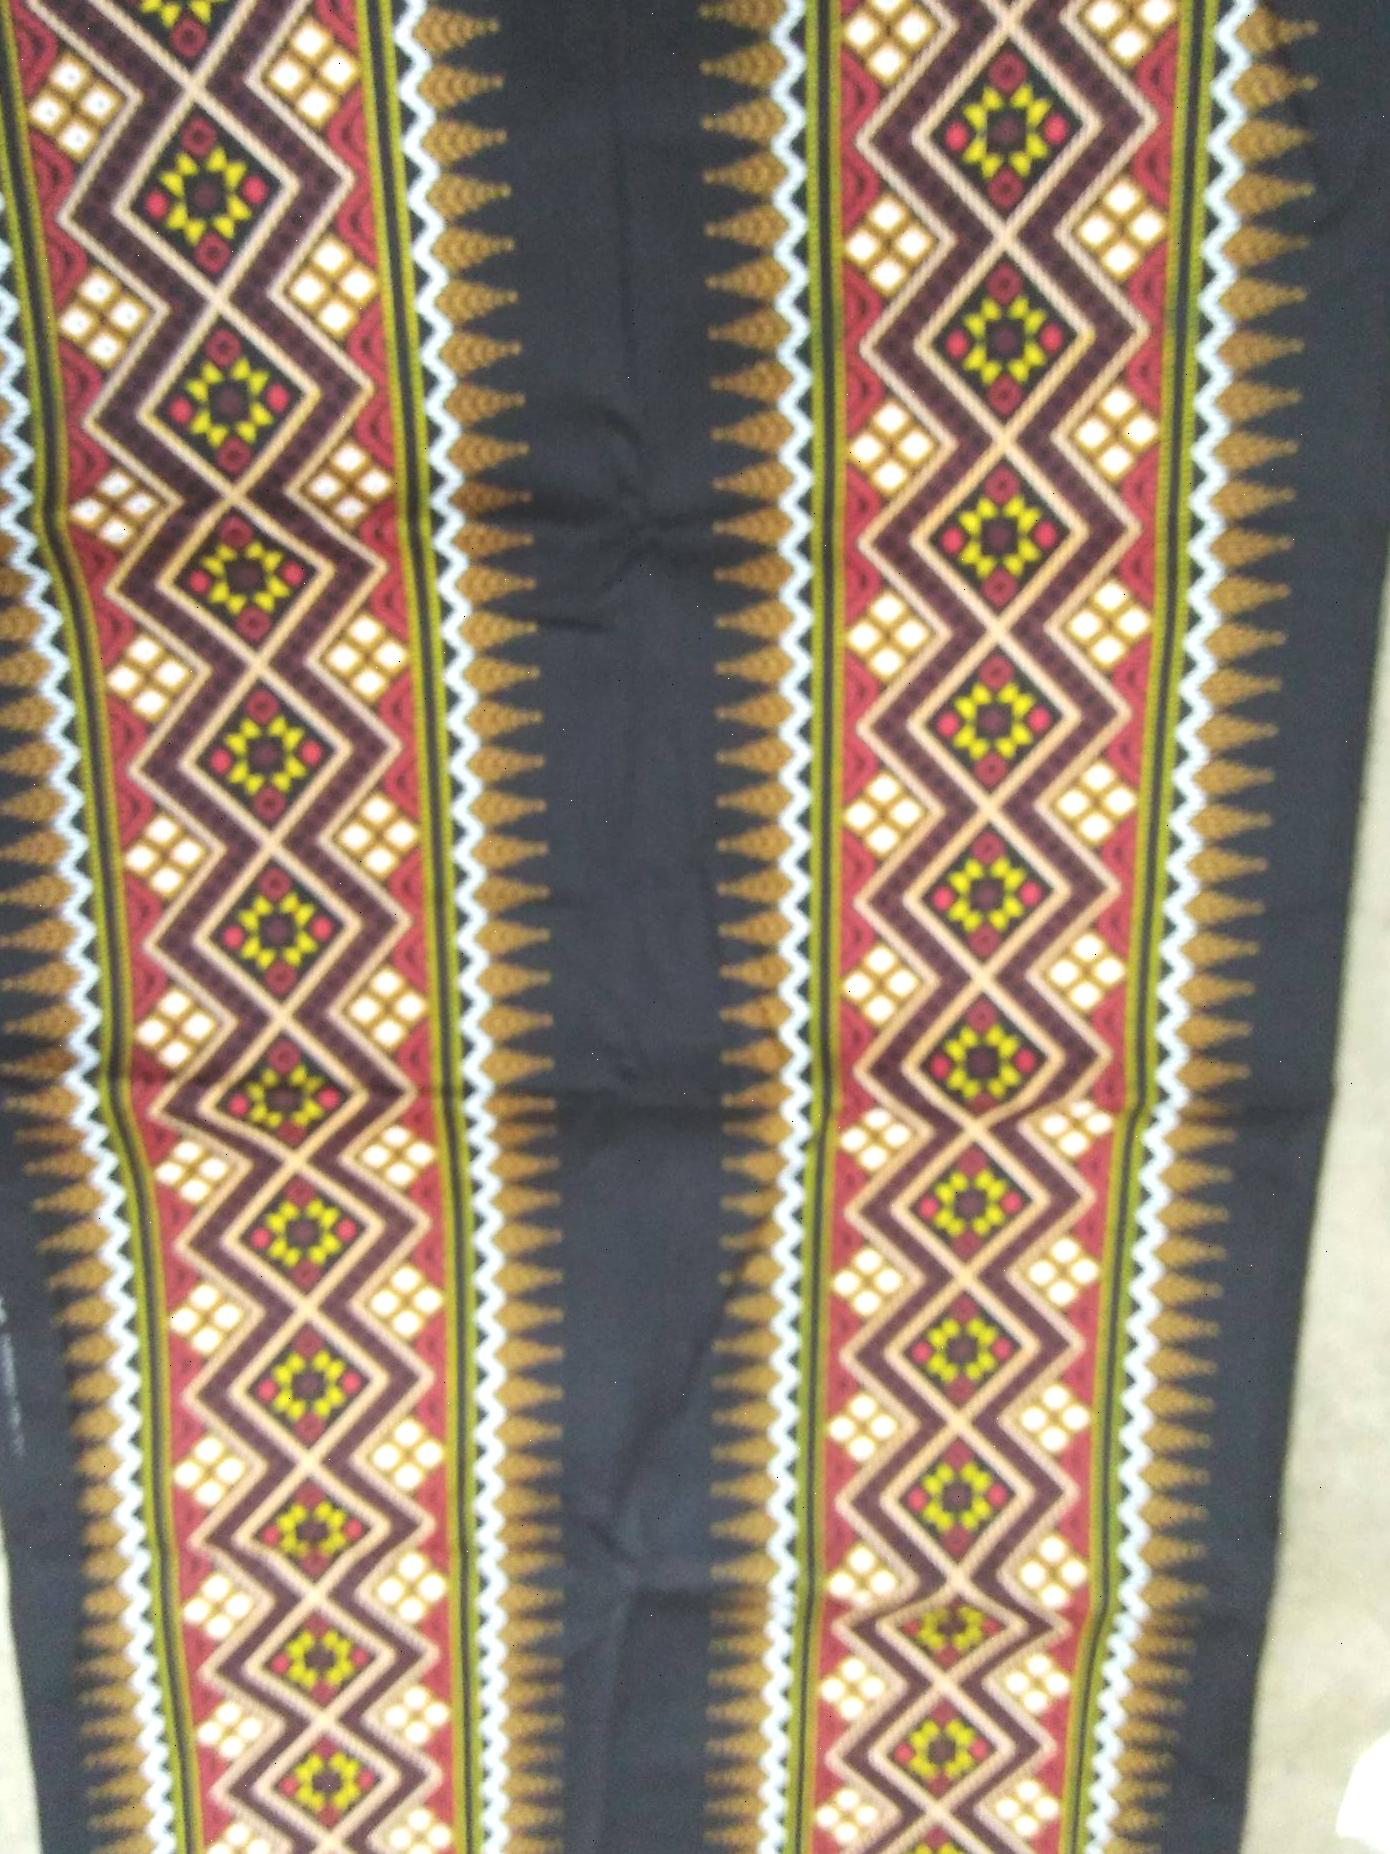malong: (0, 0, 1368, 1854)
